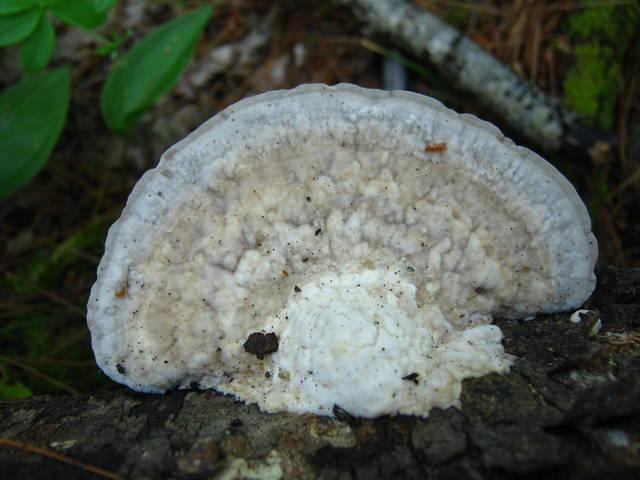Non-edible Mushroom: (84, 80, 599, 420)
